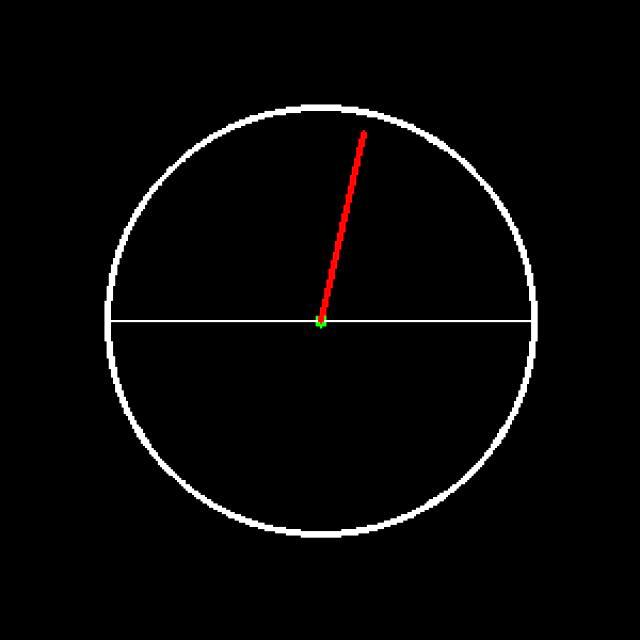Needle_Tip: (310, 113, 417, 163)
Needle_base: (292, 283, 345, 362)
